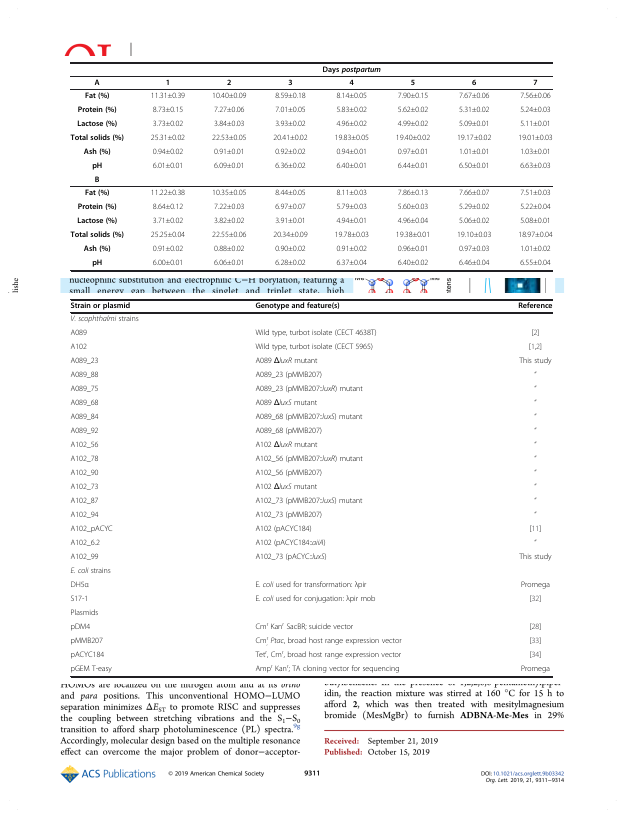borderless: (69, 298, 552, 676), (70, 61, 552, 270)
cell: (254, 635, 402, 647), (254, 649, 402, 661), (254, 663, 400, 675), (254, 329, 377, 339), (254, 595, 376, 605), (254, 343, 374, 353), (254, 621, 354, 633), (254, 581, 367, 591), (254, 385, 364, 395), (254, 455, 364, 465), (254, 413, 363, 423), (254, 497, 363, 507), (254, 302, 341, 311), (254, 553, 327, 563), (254, 539, 326, 549), (70, 315, 140, 325), (254, 371, 323, 381), (254, 427, 323, 437), (254, 469, 323, 479), (254, 511, 323, 521), (254, 357, 318, 367), (254, 399, 318, 409), (254, 441, 318, 451), (254, 483, 318, 493), (254, 525, 312, 535), (70, 133, 125, 143), (70, 230, 125, 240), (70, 302, 131, 311), (322, 65, 382, 74), (70, 525, 114, 535), (70, 665, 113, 675), (70, 567, 112, 577), (76, 119, 118, 129), (76, 216, 118, 226), (77, 105, 117, 115), (77, 202, 117, 212), (70, 651, 105, 661), (518, 357, 552, 367), (518, 553, 552, 563), (70, 637, 104, 647), (517, 302, 553, 311), (70, 539, 101, 549), (520, 581, 551, 591), (520, 665, 551, 675), (70, 357, 99, 367), (70, 371, 99, 381), (70, 385, 99, 395), (70, 399, 99, 409), (70, 413, 99, 423), (70, 427, 99, 437), (70, 441, 99, 451), (70, 455, 99, 465), (70, 469, 99, 479), (70, 483, 99, 493), (70, 497, 99, 507), (70, 511, 99, 521), (70, 553, 99, 563), (70, 609, 99, 619), (83, 147, 111, 157), (83, 244, 111, 254), (84, 91, 110, 101), (84, 188, 110, 198), (150, 92, 186, 99), (211, 92, 247, 99), (150, 134, 186, 141), (211, 134, 247, 141), (272, 134, 308, 141), (334, 134, 370, 141), (395, 134, 431, 141), (456, 134, 492, 141), (517, 134, 553, 141), (150, 189, 186, 196), (211, 189, 247, 196), (150, 231, 186, 238), (211, 231, 247, 238), (272, 231, 308, 238), (334, 231, 370, 238), (395, 231, 431, 238), (456, 231, 492, 238), (517, 231, 553, 238), (274, 92, 307, 99), (335, 92, 368, 99), (519, 92, 552, 99), (274, 106, 307, 113), (335, 106, 368, 113), (519, 106, 552, 113), (274, 120, 307, 127), (335, 120, 368, 127), (519, 120, 552, 127), (274, 148, 307, 155), (335, 148, 368, 155), (519, 148, 552, 155), (274, 162, 307, 169), (335, 162, 368, 169), (519, 162, 552, 169), (274, 189, 307, 196), (335, 189, 368, 196), (519, 189, 552, 196), (274, 203, 307, 210), (335, 203, 368, 210), (519, 203, 552, 210), (274, 217, 307, 224), (335, 217, 368, 224), (519, 217, 552, 224), (274, 245, 307, 252), (335, 245, 368, 252), (519, 245, 552, 252), (274, 259, 307, 266), (335, 259, 368, 266), (519, 259, 552, 266), (397, 92, 429, 99), (458, 92, 490, 99), (152, 106, 184, 113), (213, 106, 245, 113), (397, 106, 429, 113), (458, 106, 490, 113), (152, 120, 184, 127), (213, 120, 245, 127), (397, 120, 429, 127), (458, 120, 490, 127), (152, 148, 184, 155), (213, 148, 245, 155), (397, 148, 429, 155), (458, 148, 490, 155), (152, 162, 184, 169), (213, 162, 245, 169), (397, 162, 429, 169), (458, 162, 490, 169), (397, 189, 429, 196), (458, 189, 490, 196), (152, 203, 184, 210), (213, 203, 245, 210), (397, 203, 429, 210), (458, 203, 490, 210), (152, 217, 184, 224), (213, 217, 245, 224), (397, 217, 429, 224), (458, 217, 490, 224), (152, 245, 184, 252), (213, 245, 245, 252), (397, 245, 429, 252), (458, 245, 490, 252), (152, 259, 184, 266), (213, 259, 245, 266), (397, 259, 429, 266), (458, 259, 490, 266), (70, 623, 91, 633), (70, 581, 90, 591), (70, 595, 89, 605), (70, 329, 88, 339), (70, 343, 88, 353), (528, 343, 543, 353), (528, 525, 542, 535), (528, 595, 542, 605), (528, 623, 542, 633), (528, 637, 542, 647), (528, 651, 542, 661), (91, 161, 103, 171), (91, 258, 103, 268), (530, 329, 540, 339), (94, 78, 101, 88), (348, 78, 355, 88), (165, 78, 171, 88), (226, 78, 232, 88), (287, 78, 293, 88), (410, 78, 416, 88), (471, 78, 477, 88), (532, 78, 538, 88), (94, 175, 100, 185), (533, 371, 537, 379), (533, 385, 537, 393), (533, 399, 537, 407), (533, 413, 537, 421), (533, 427, 537, 435), (533, 441, 537, 449), (533, 455, 537, 463), (533, 469, 537, 477), (533, 483, 537, 491), (533, 497, 537, 505), (533, 511, 537, 519), (533, 539, 537, 547)
